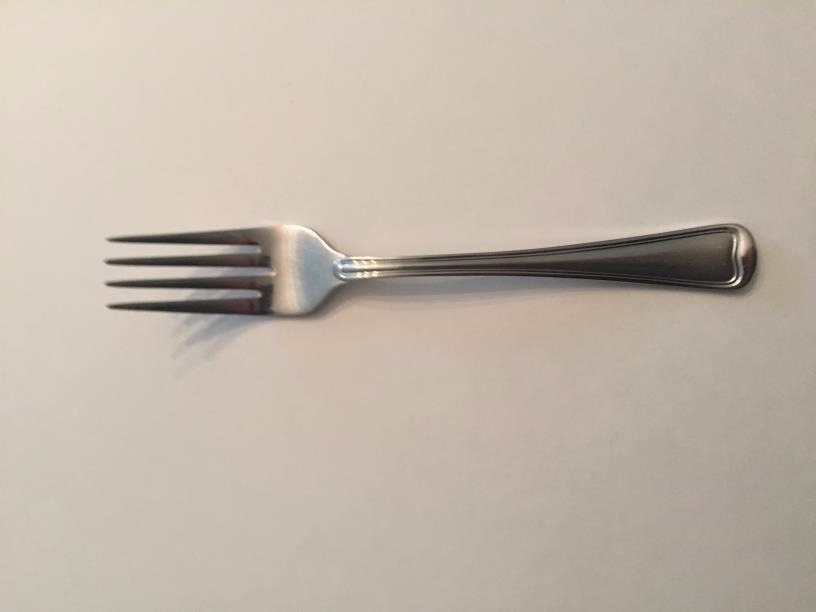fork: (87, 206, 767, 334)
